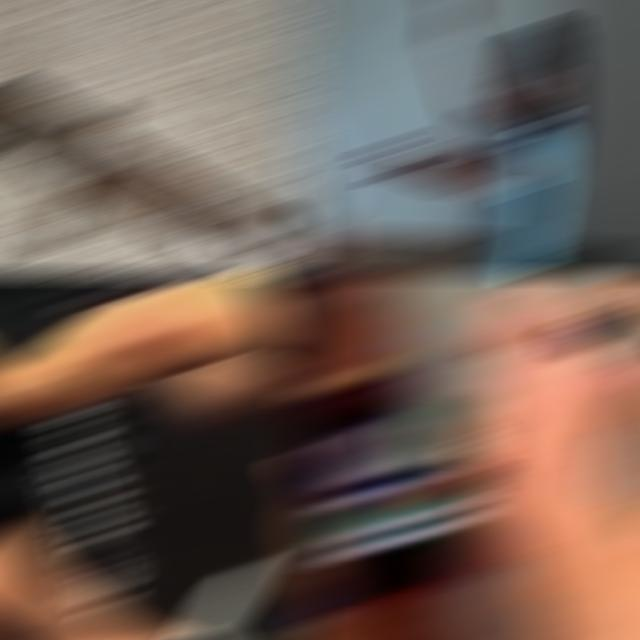Knife: (166, 564, 265, 636)
Knife_Handle: (450, 278, 640, 506), (115, 564, 269, 636), (428, 4, 476, 42), (429, 4, 475, 38)
